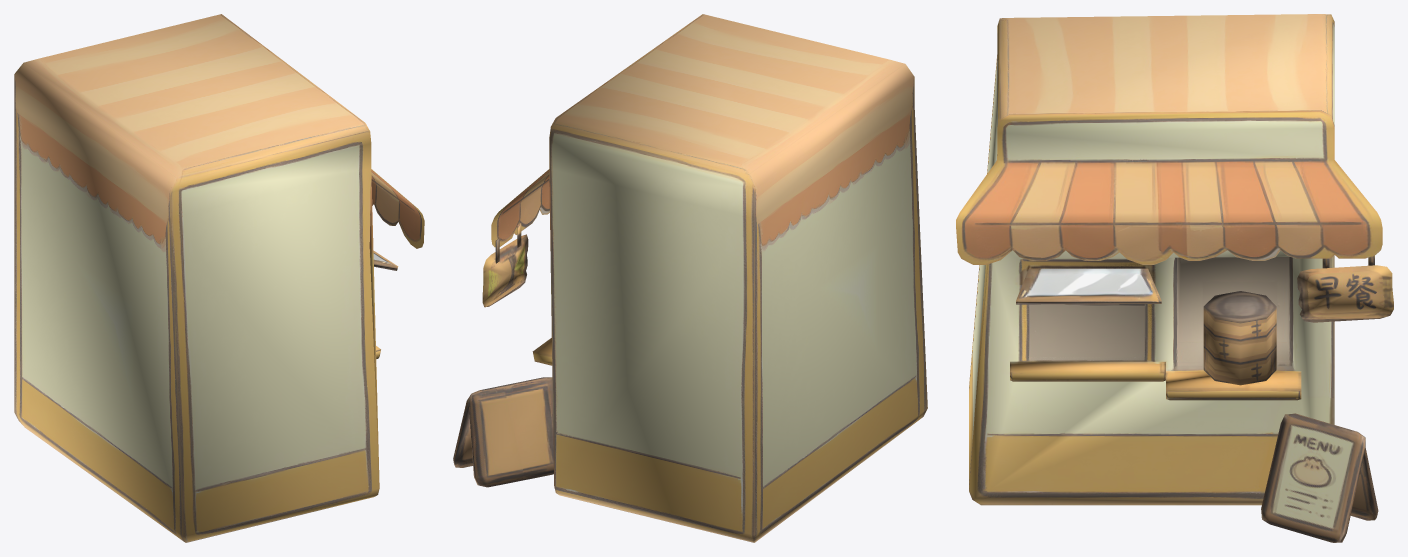
Rendered from 小吃摊3d模型.fbx.
3 renders of one model, left to right at view 1: azimuth 30°, elevation 25°; view 2: azimuth 150°, elevation 25°; view 3: azimuth 270°, elevation 25°, orthographic. The views are drawn at different scales.
Visible parts, largest first — view 1: meshes[0]; view 2: meshes[0]; view 3: meshes[0].
Boxes of the visible parts, x1,y1,x2,y2 form: meshes[0]: (14, 14, 424, 542); meshes[0]: (453, 14, 927, 542); meshes[0]: (956, 14, 1393, 542).
Bounding box in the file's own units: 0.8301 × 0.998 × 0.998.
Materials: 1 (1 with a texture image).
